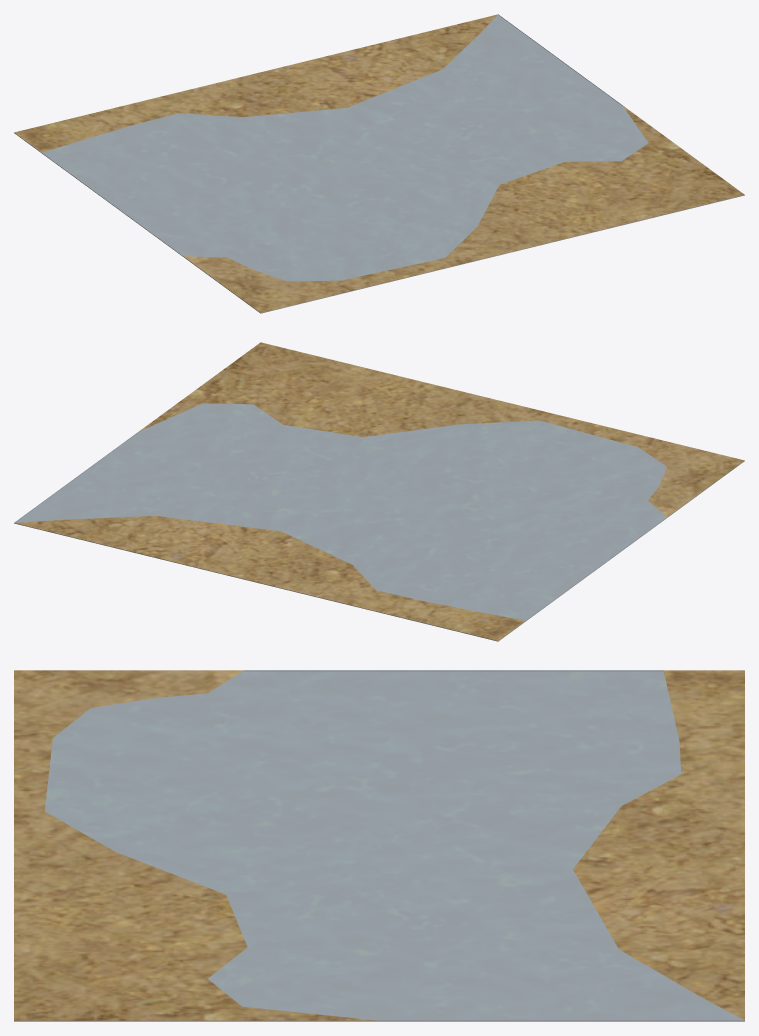
Rendered from puddle.fbx.
3 renders of one model, top to bottom at view 1: azimuth 30°, elevation 25°; view 2: azimuth 150°, elevation 25°; view 3: azimuth 270°, elevation 25°, orthographic. The views are drawn at different scales.
Visible parts, largest first — view 1: pCube1; view 2: pCube1; view 3: pCube1.
Part boxes in pixels (left/top/right/bottom): pCube1: left=14, top=14, right=744, bottom=313; pCube1: left=14, top=342, right=744, bottom=641; pCube1: left=14, top=670, right=744, bottom=1021.
Size of the model in its own units: 8.26 by 0.01 by 7.29.
3 materials, 2 textured.
